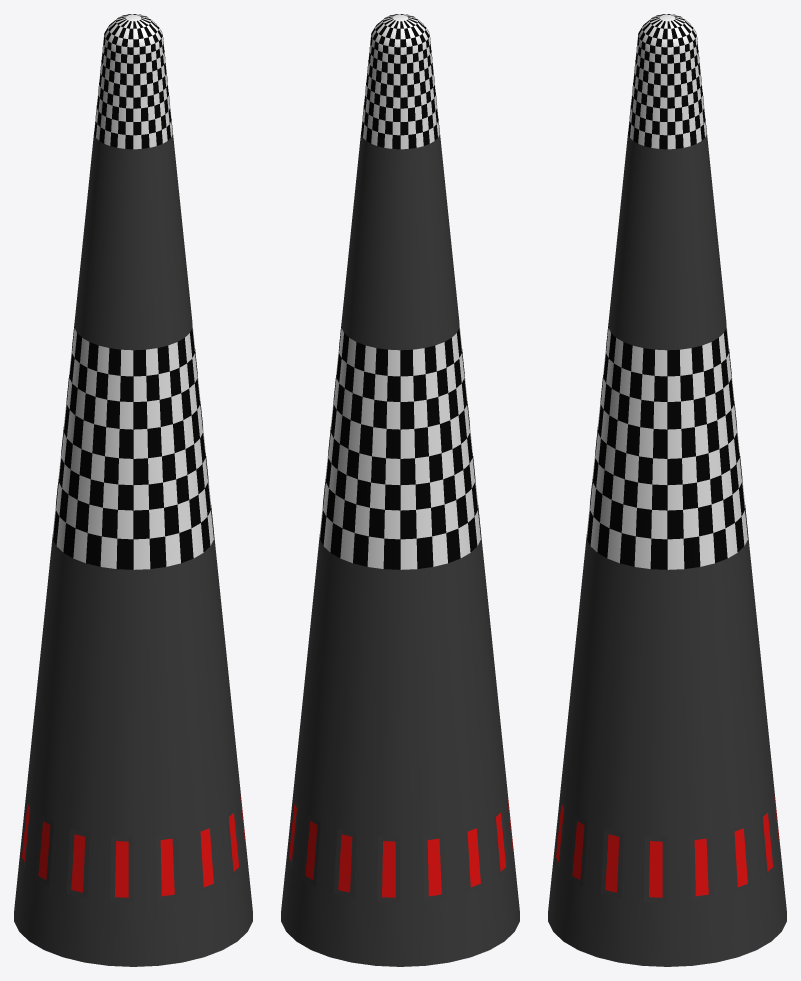
The model's file is Start.fbx.
3 renders of one model, left to right at view 1: azimuth 30°, elevation 25°; view 2: azimuth 150°, elevation 25°; view 3: azimuth 270°, elevation 25°, orthographic.
Visible parts, largest first — view 1: Cone001; view 2: Cone001; view 3: Cone001.
Part boxes in pixels (box(x1,y1,x2,y2)): Cone001: box(14, 14, 252, 966); Cone001: box(281, 14, 519, 966); Cone001: box(548, 14, 786, 966).
Size of the model in its own units: 58.14 by 240 by 57.82.
